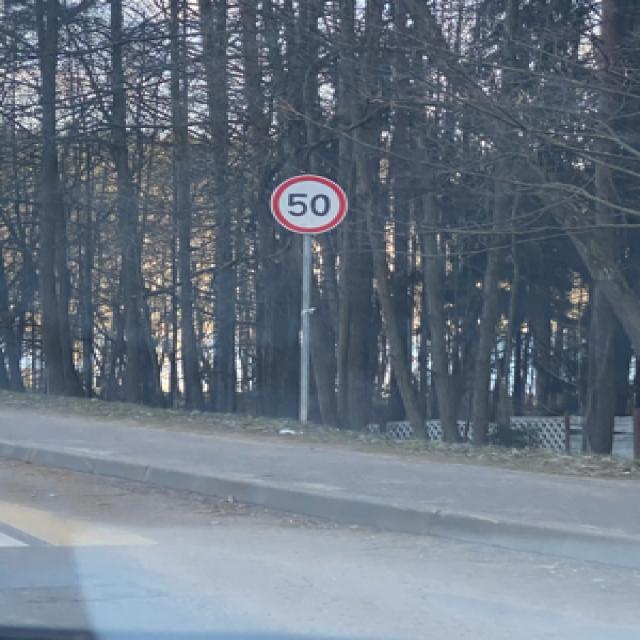speedlimit: (266, 174, 344, 233)
